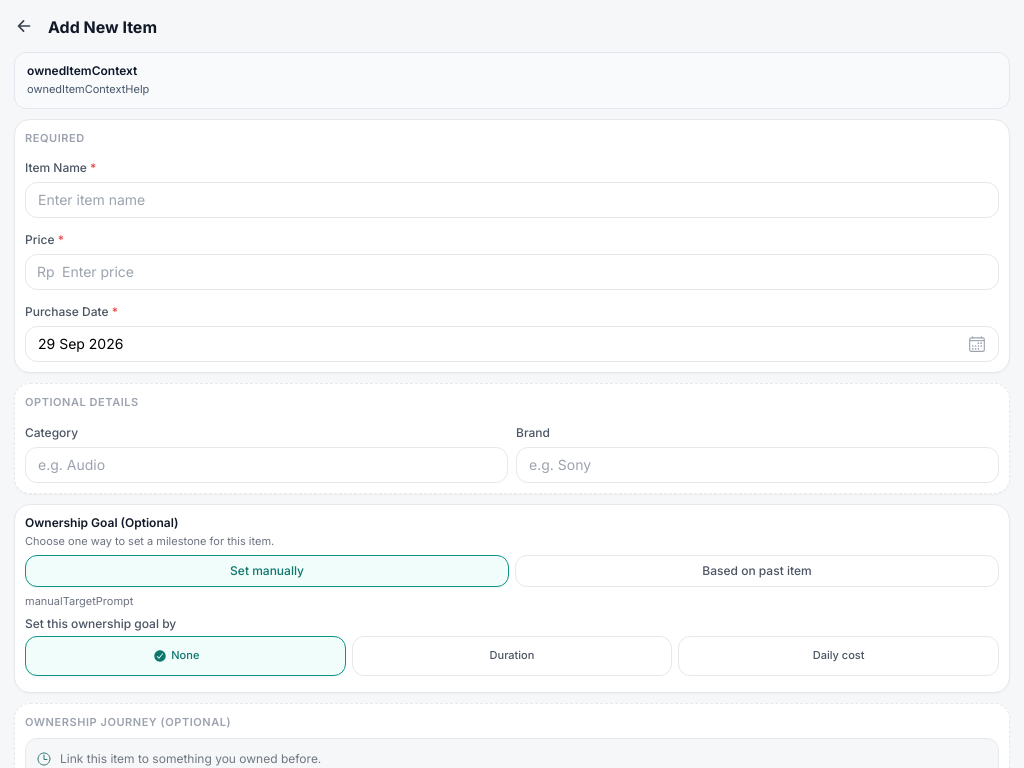
Test: AddItem component date localization › renders the localized guest item limit prompt from structured error metadata
The width and height of the screenshot is (1024, 768).
In the field with placeholder "Enter item name": (512, 200) [25,182,999,218], type "Laptop"
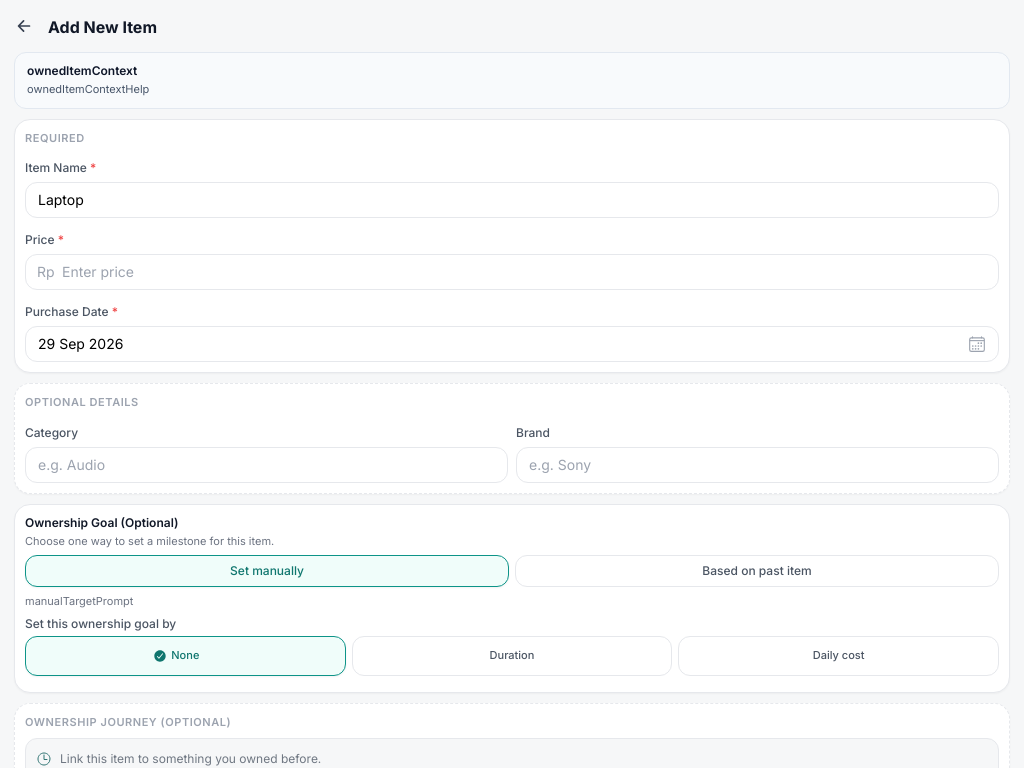
In the field with placeholder "Enter price": (512, 272) [25,254,999,290], type "1200"
(page scrolled)
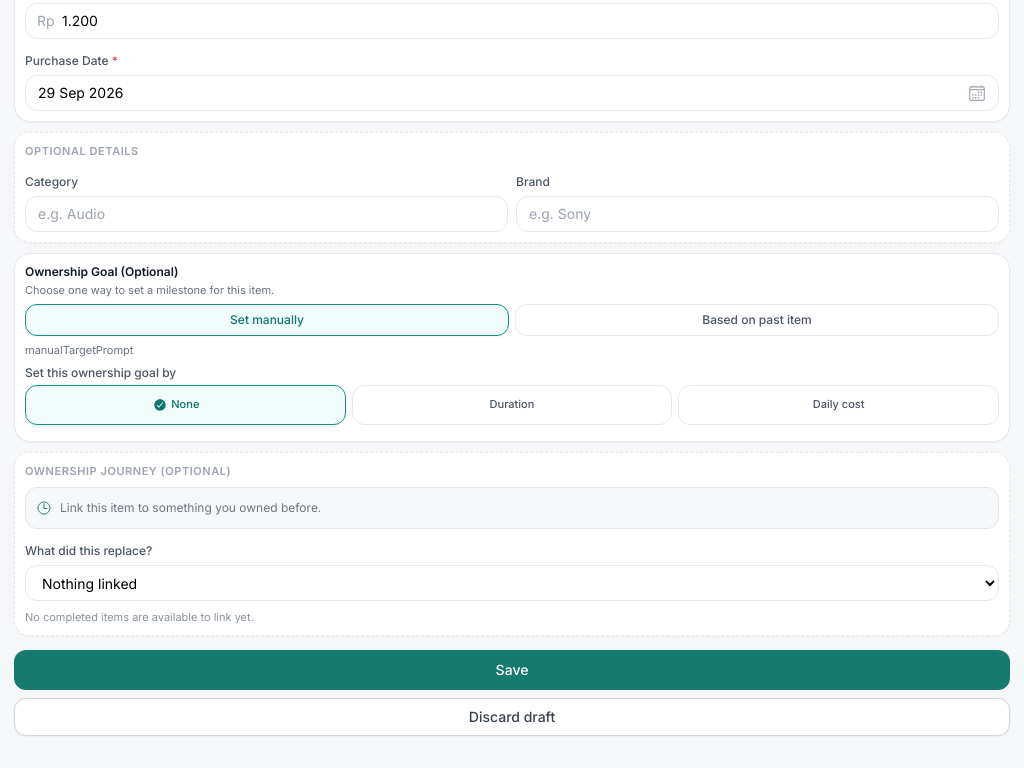
Click the button "Save": (512, 670) [14,650,1010,690]
(page scrolled)
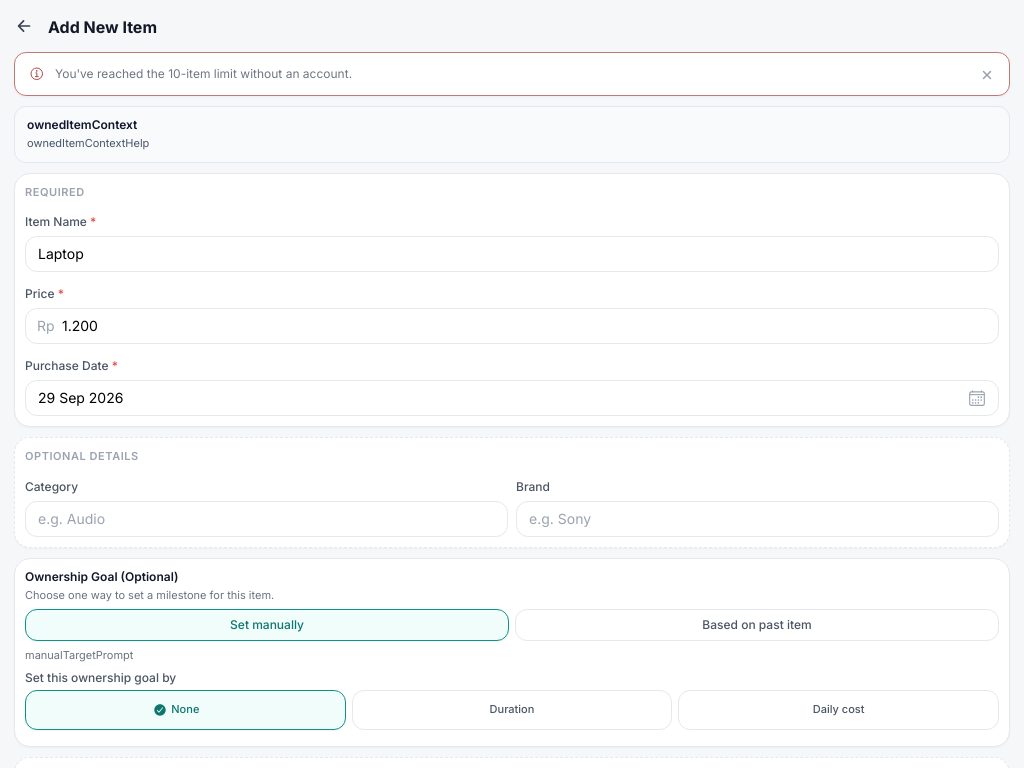
Check: the message reads "You've reached the 10-item limit without an account.", box [55,66,352,81]
